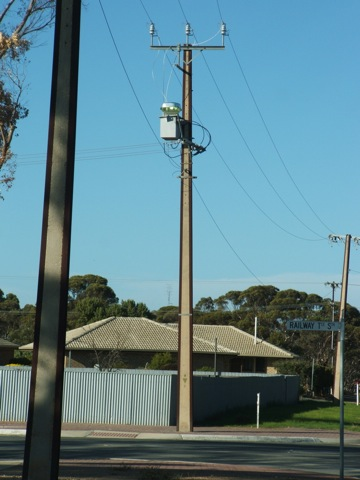pole: (135, 18, 237, 437), (321, 225, 356, 478)
